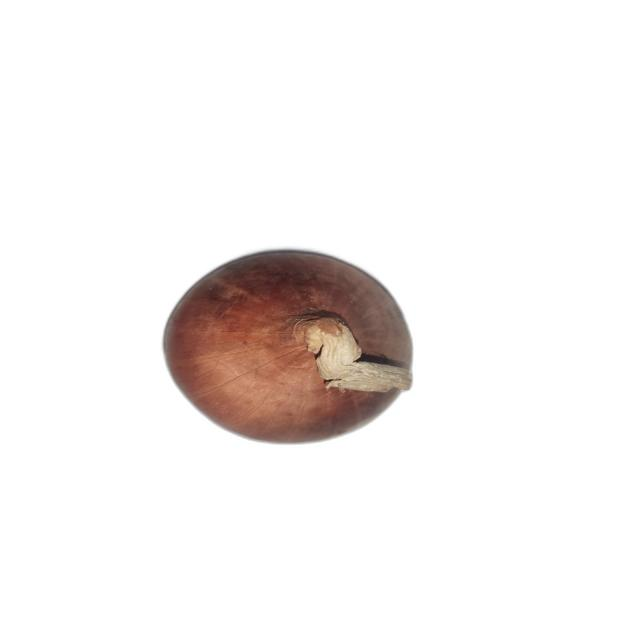onion: (161, 248, 415, 444)
